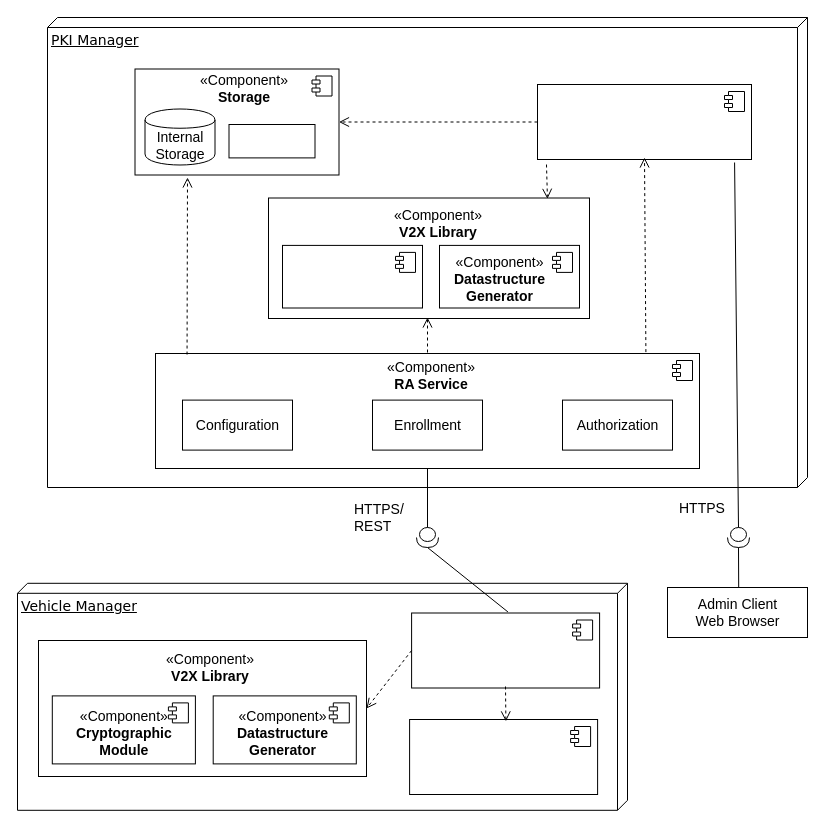
This 825x831 diagram has some shape labels left out. Each missing label, with the centre of its shape:
"KeyStore" goes at pixel 271 141.
"«Component» Backoffice" goes at pixel 644 122.
"«Component» Crypt ographic Module" goes at pixel 352 276.
"«Component» V2X Communication Module" goes at pixel 505 650.
"«Component» Vehicle Generator" goes at pixel 503 756.
